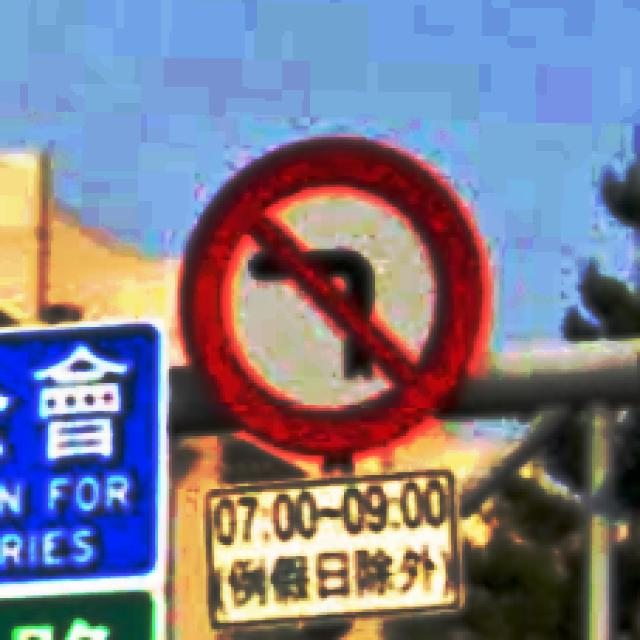noturnleft: (174, 131, 490, 461)
